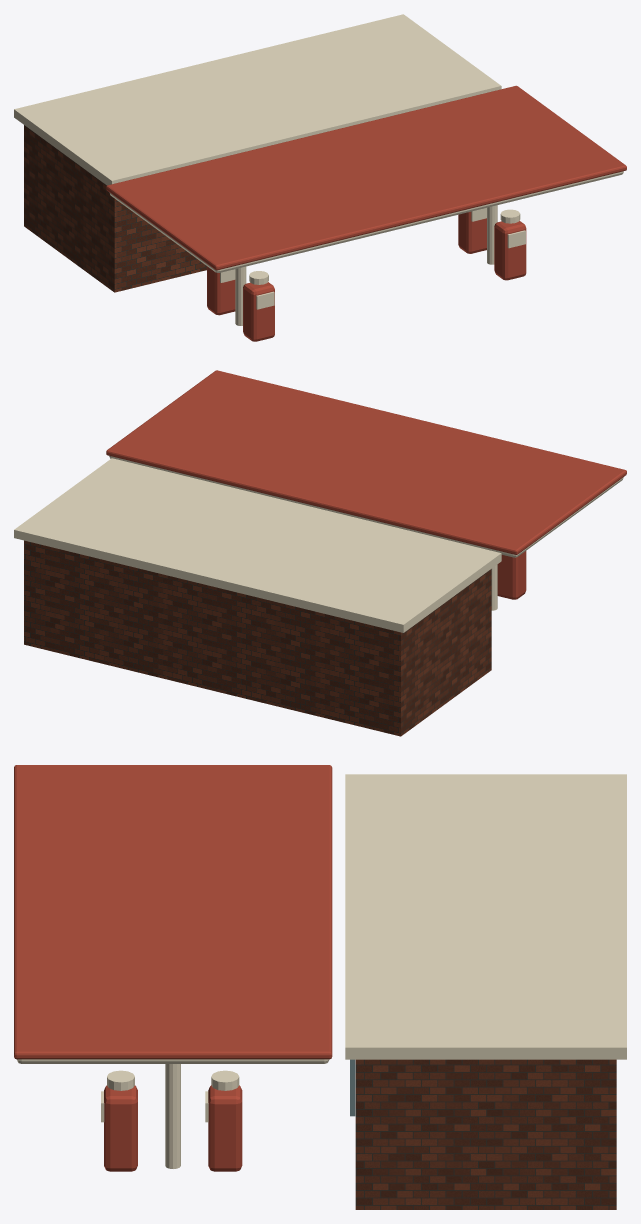
File: filling.glb
3 renders of one model, top to bottom at view 1: azimuth 30°, elevation 25°; view 2: azimuth 150°, elevation 25°; view 3: azimuth 270°, elevation 25°, orthographic. The views are drawn at different scales.
Visible parts, largest first — view 1: canopy stripe, station roof, station office; view 2: station office, canopy stripe, station roof; view 3: canopy stripe, station roof, station office.
Boxes of the visible parts, x1=… form: canopy stripe: x1=106, y1=85, x2=626, y2=341; station roof: x1=14, y1=14, x2=623, y2=325; station office: x1=24, y1=125, x2=206, y2=292; station office: x1=24, y1=540, x2=491, y2=736; canopy stripe: x1=106, y1=370, x2=626, y2=599; station roof: x1=14, y1=456, x2=623, y2=632; canopy stripe: x1=14, y1=765, x2=332, y2=1171; station roof: x1=17, y1=774, x2=626, y2=1168; station office: x1=355, y1=1059, x2=616, y2=1209.
Bounding box in the file's own units: 13.1 × 3.58 × 11.75.
4 materials, 1 textured.
